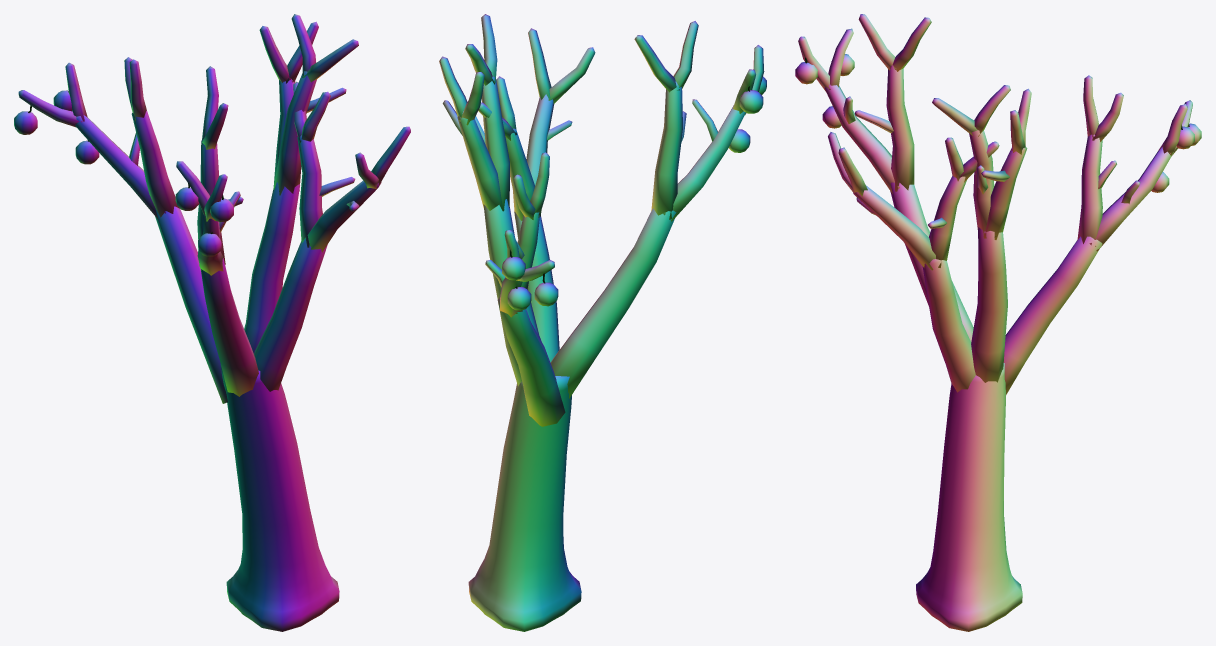
File: SM_Foliage_March_CharredOrchard_A.fbx
The picture shows the model from 3 angles, left to right: view 1: azimuth 30°, elevation 25°; view 2: azimuth 150°, elevation 25°; view 3: azimuth 270°, elevation 25°; orthographic projection. The views are drawn at different scales.
Visible parts, largest first — view 1: SM_Foliage_March_CharredOrchard_A; view 2: SM_Foliage_March_CharredOrchard_A; view 3: SM_Foliage_March_CharredOrchard_A.
Part boxes in pixels (x1,y1,x2,y2): SM_Foliage_March_CharredOrchard_A: (14, 14, 410, 631); SM_Foliage_March_CharredOrchard_A: (439, 14, 766, 631); SM_Foliage_March_CharredOrchard_A: (795, 14, 1201, 631).
Bounding box in the file's own units: 1.35 × 3.06 × 2.07.
